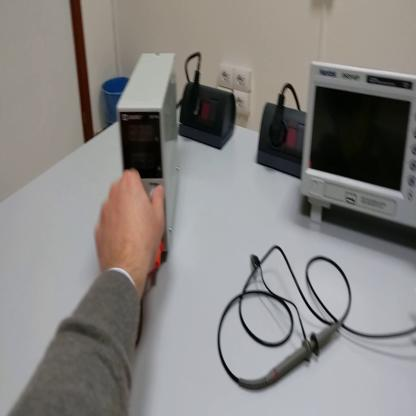hand: (94, 171, 167, 287)
oscilloscope: (301, 58, 416, 242)
oscilloscope probe tip: (241, 317, 345, 393)
power supply: (113, 48, 175, 257)
socket: (255, 101, 308, 182), (179, 84, 238, 152)
